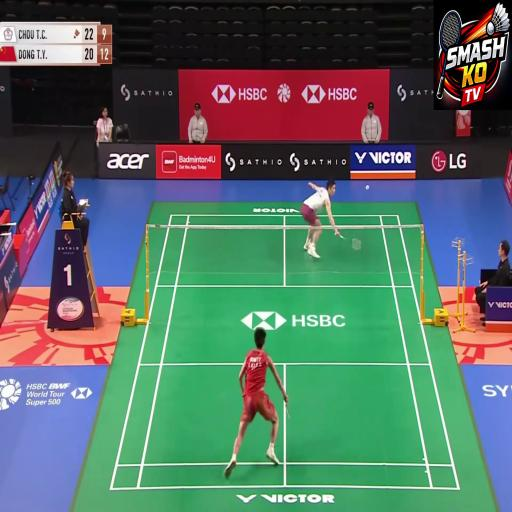player: (236, 293, 300, 467), (297, 154, 339, 282)
